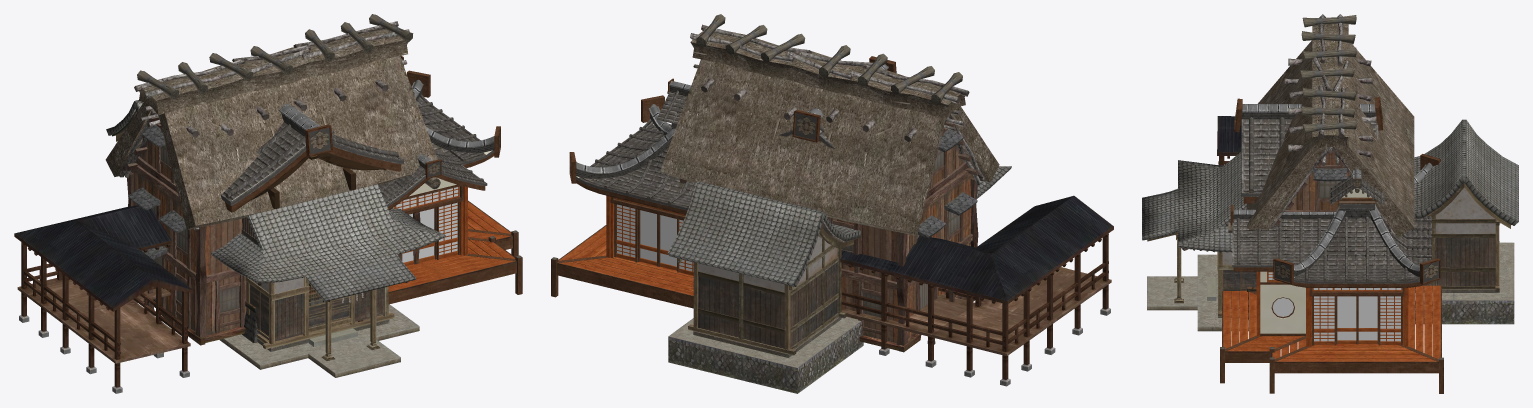
3 renders of one model, left to right at view 1: azimuth 30°, elevation 25°; view 2: azimuth 150°, elevation 25°; view 3: azimuth 270°, elevation 25°, orthographic. The views are drawn at different scales.
Parts seen in each view (by area): view 1: House, AST_jinja_main, polySurface172, JapaneseHouse, skk, Glass, wood_001, stone_001; view 2: House, AST_jinja_main, polySurface172, JapaneseHouse, Glass, skk; view 3: JapaneseHouse, AST_jinja_main, House, skk, Glass, polySurface172.
Boxes of the visible parts, x1=… form: House: x1=105, y1=14, x2=437, y2=345; AST_jinja_main: x1=106, y1=100, x2=445, y2=377; polySurface172: x1=14, y1=205, x2=192, y2=393; JapaneseHouse: x1=358, y1=55, x2=522, y2=321; skk: x1=220, y1=104, x2=403, y2=212; Glass: x1=393, y1=187, x2=458, y2=262; wood_001: x1=251, y1=152, x2=386, y2=209; stone_001: x1=242, y1=287, x2=325, y2=342; House: x1=660, y1=14, x2=999, y2=352; AST_jinja_main: x1=667, y1=166, x2=1011, y2=393; polySurface172: x1=840, y1=195, x2=1113, y2=386; JapaneseHouse: x1=551, y1=78, x2=764, y2=308; Glass: x1=617, y1=204, x2=693, y2=271; skk: x1=779, y1=56, x2=896, y2=148; JapaneseHouse: x1=1220, y1=154, x2=1443, y2=393; AST_jinja_main: x1=1142, y1=119, x2=1518, y2=331; House: x1=1246, y1=14, x2=1414, y2=237; skk: x1=1234, y1=97, x2=1382, y2=203; Glass: x1=1268, y1=272, x2=1401, y2=341; polySurface172: x1=1217, y1=116, x2=1241, y2=165.
Bounding box in the file's own units: 12.04 × 6.5 × 9.73.
Materials: 16 (15 with a texture image).
